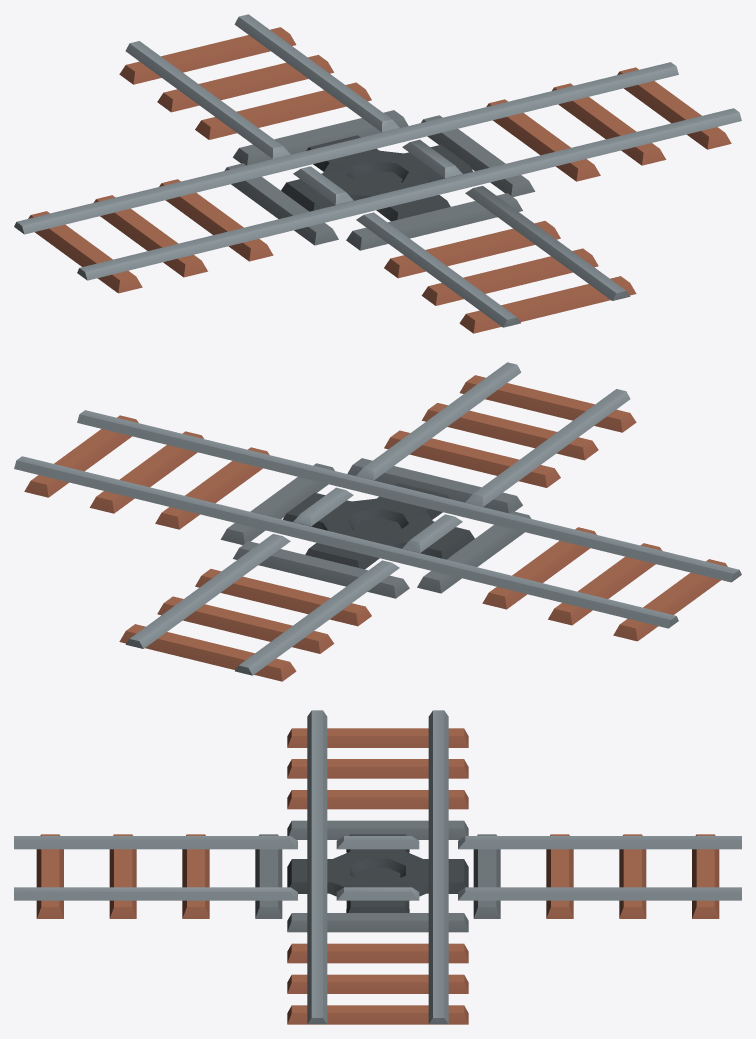
Rendered from tracks_crossing.glb.
3 renders of one model, top to bottom at view 1: azimuth 30°, elevation 25°; view 2: azimuth 150°, elevation 25°; view 3: azimuth 270°, elevation 25°, orthographic. The views are drawn at different scales.
Parts seen in each view (by area): view 1: tracks_crossing; view 2: tracks_crossing; view 3: tracks_crossing.
Part boxes in pixels (<box>): tracks_crossing: <box>14,14,741,333</box>; tracks_crossing: <box>14,362,741,681</box>; tracks_crossing: <box>14,710,741,1024</box>.
Bounding box in the file's own units: 2 × 0.05 × 2.
Materials: 1 (1 with a texture image).
